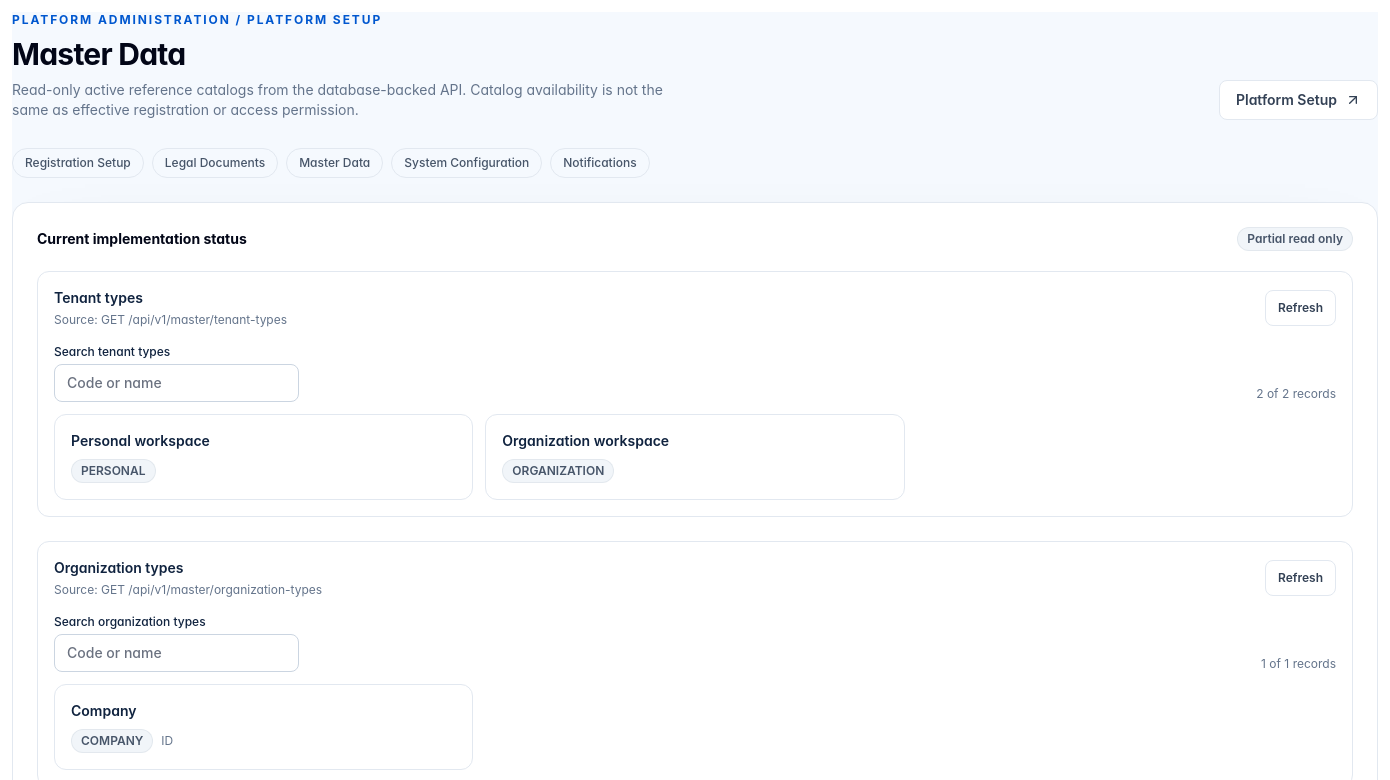
Platform Setup foundation › loads tenant types from the API and filters only that catalog
Expected: the text "Personal workspace" is shown, [71,432,210,449]
Expected: the text "Company" is shown, [71,702,136,719]
Type "organization" into the field labelled "Search tenant types".
click(176, 383); type("organization")  # box [54,364,299,402]
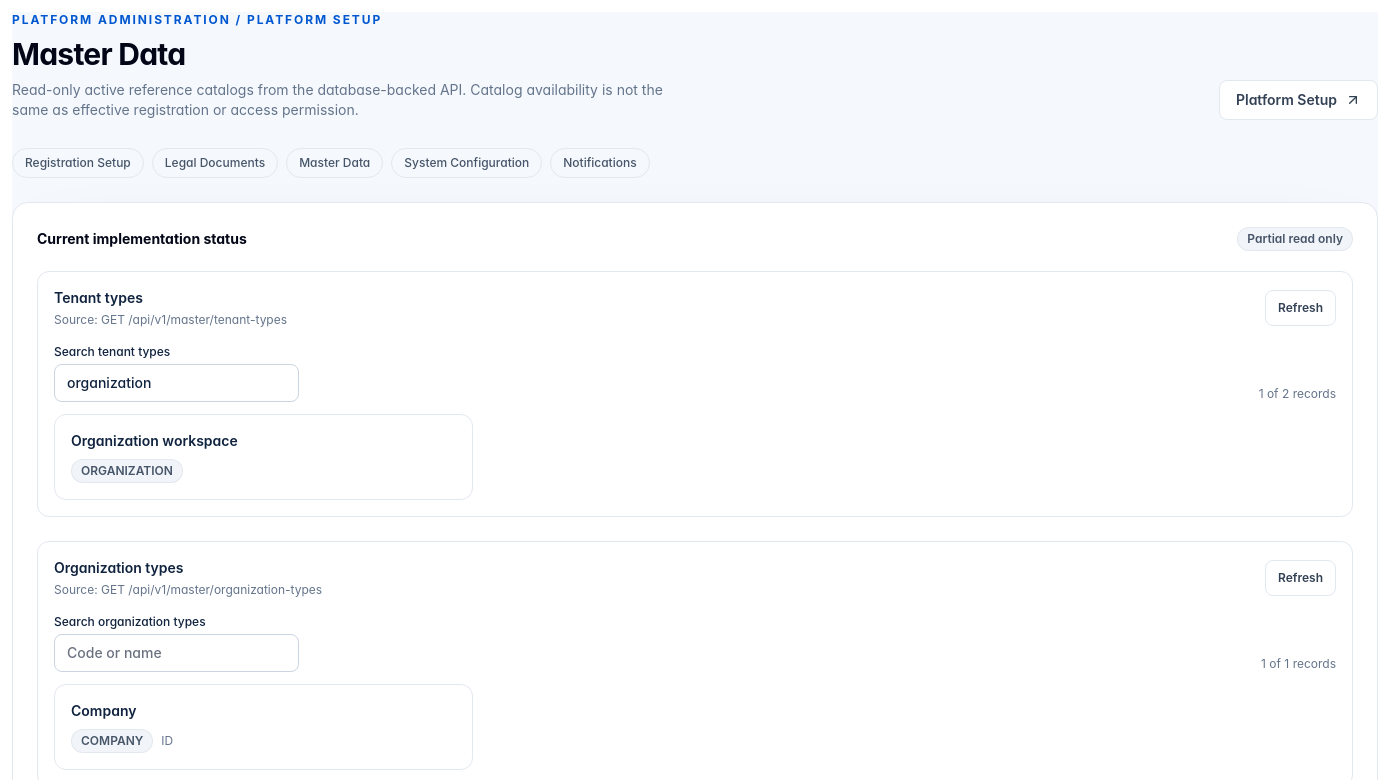
Expected: the text "Organization workspace" is shown, [71,432,238,449]
Expected: the text "Personal workspace" is gone
